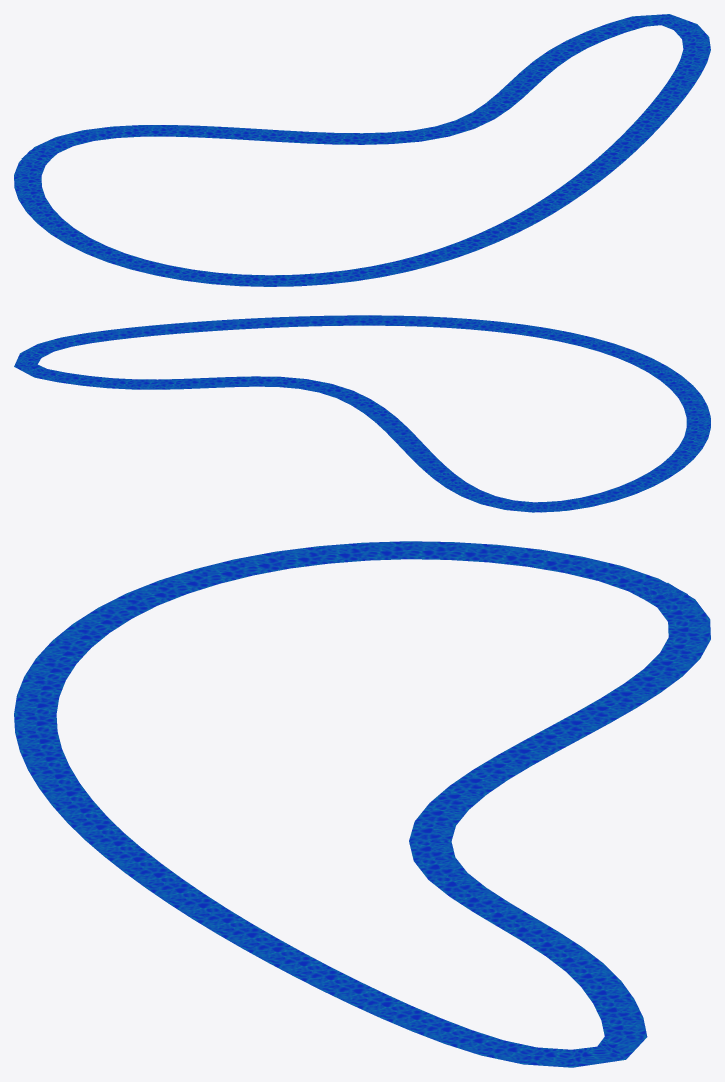
The model's file is trackOne.fbx.
The picture shows the model from 3 angles, top to bottom: view 1: azimuth 30°, elevation 25°; view 2: azimuth 150°, elevation 25°; view 3: azimuth 270°, elevation 25°; orthographic projection. The views are drawn at different scales.
Parts seen in each view (by area): view 1: trackOne; view 2: trackOne; view 3: trackOne.
Boxes of the visible parts, x1,y1,x2,y2 form: trackOne: (14, 14, 710, 286); trackOne: (14, 315, 710, 512); trackOne: (14, 541, 710, 1067).
Bounding box in the file's own units: 5845 × 0.000619 × 3270.
